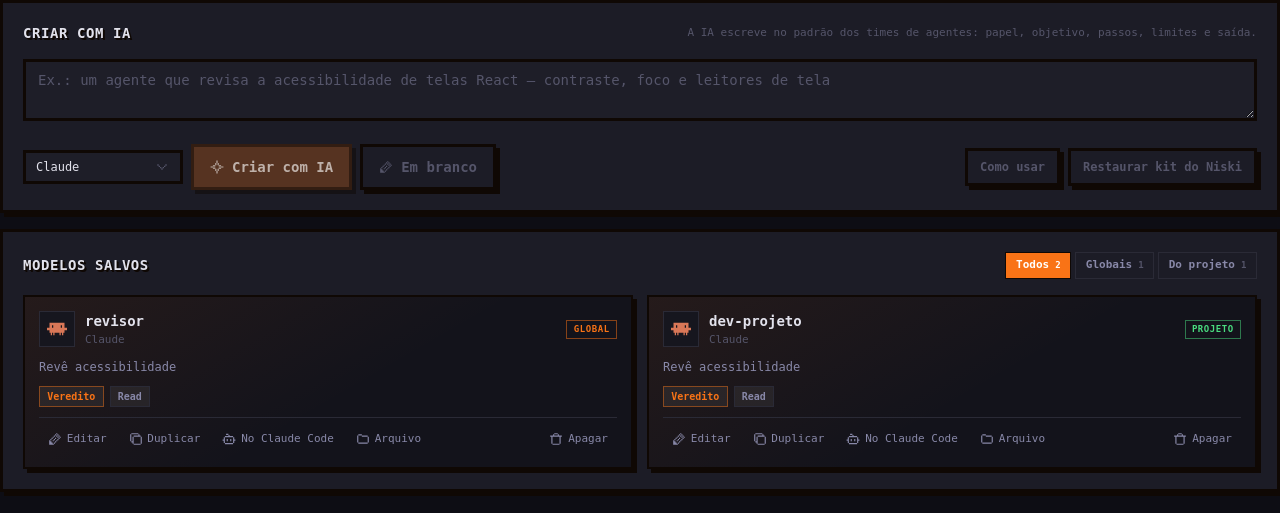
filtra modelos globais e do projeto
Click the tab "Do projeto 1": point(1208, 265) x1=1158 y1=252 x2=1257 y2=278
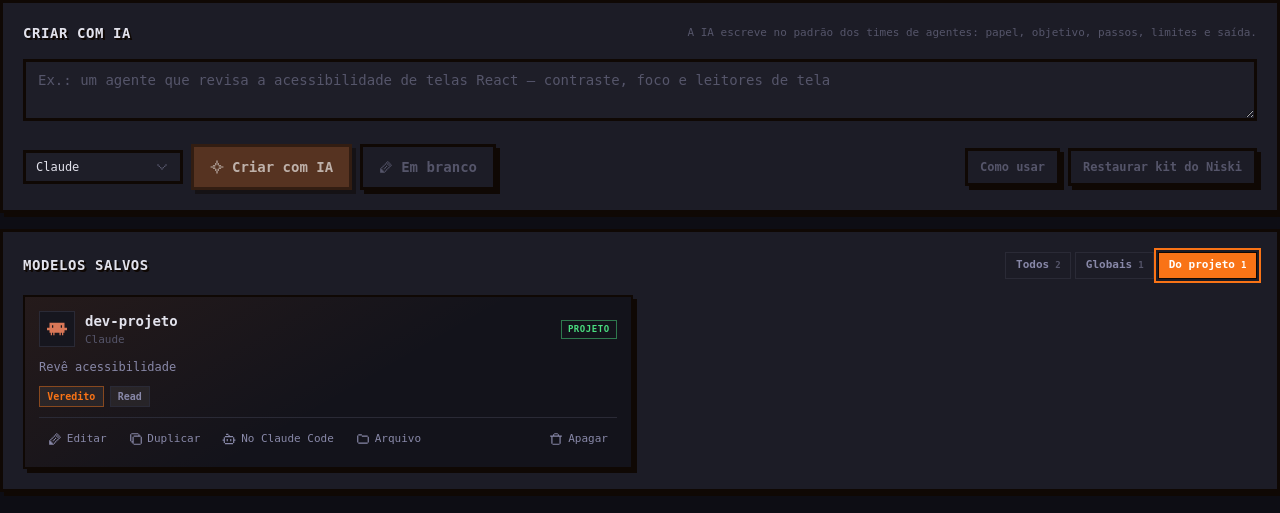
Expected: the heading "dev-projeto" is shown, x1=85 y1=312 x2=178 y2=328
Now the heading "revisor" is gone
Click the tab "Globais 1": point(1115, 265) x1=1075 y1=252 x2=1154 y2=278
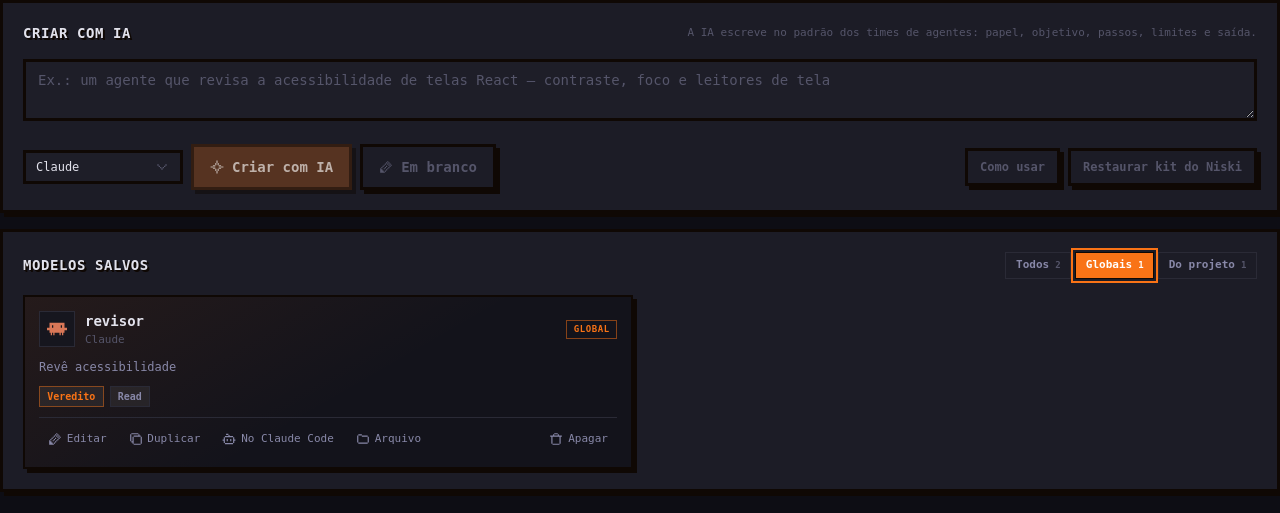
Now the heading "revisor" is shown, box x1=85 y1=312 x2=144 y2=328
Now the heading "dev-projeto" is gone
